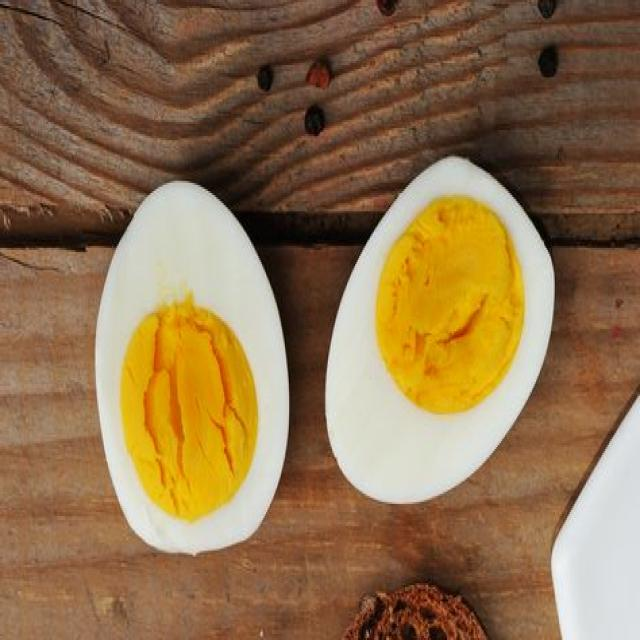telur rebus: (324, 152, 556, 504), (93, 177, 290, 555)
